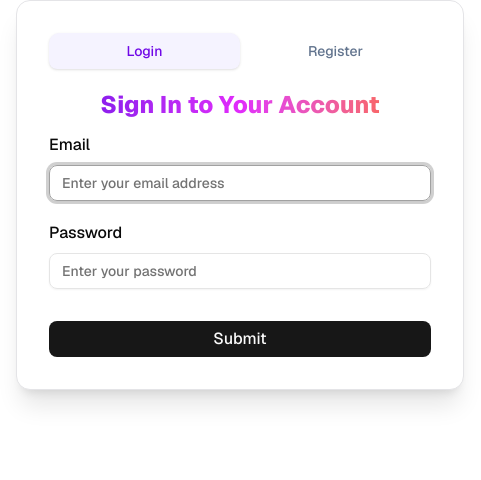
AuthForm › clears validation errors when user corrects input
# Trigger validation error by entering invalid email and submitting
Type "invalid" into the field labelled "Email" at coordinates (240, 183), box [49,165,431,201]
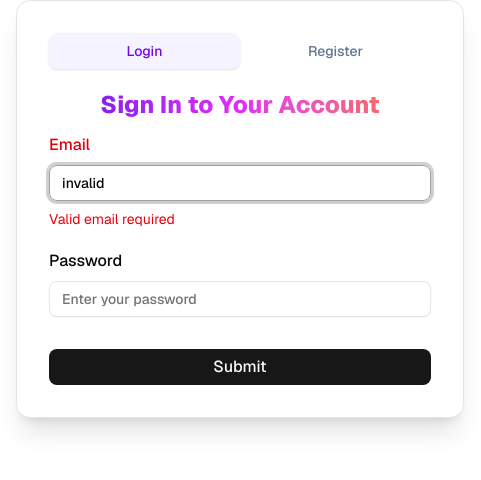
Type "1234" into the password field labelled "Password" at coordinates (240, 299), box [49,281,431,317]
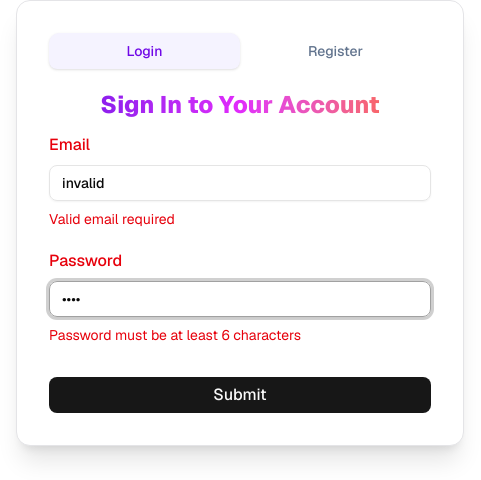
Click the button "Login" at coordinates (144, 51), box [49,33,240,69]
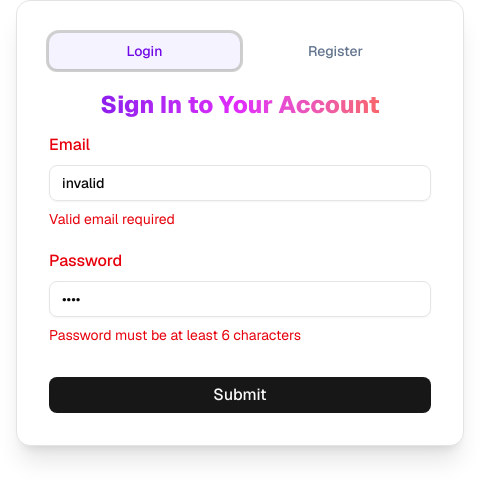
Check: the text "Valid email required" is shown, box [49,210,175,228]
Check: the text "Password must be at least 6 characters" is shown, box [49,326,301,344]
# Fix the input by clearing and entering valid email
Replace the text in the field labelled "Email" with "valid@example.com" at coordinates (240, 183), box [49,165,431,201]
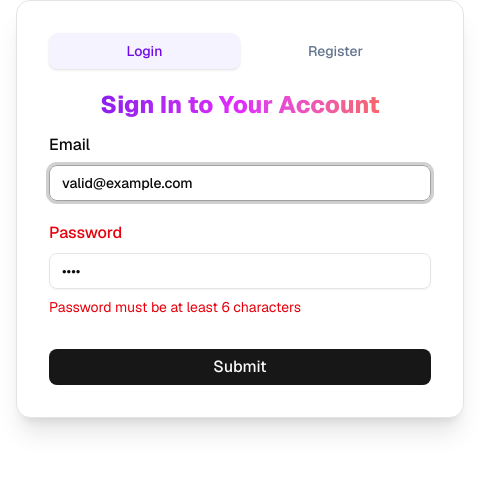
Type "1234567" into the password field labelled "Password" at coordinates (240, 271), box [49,253,431,289]
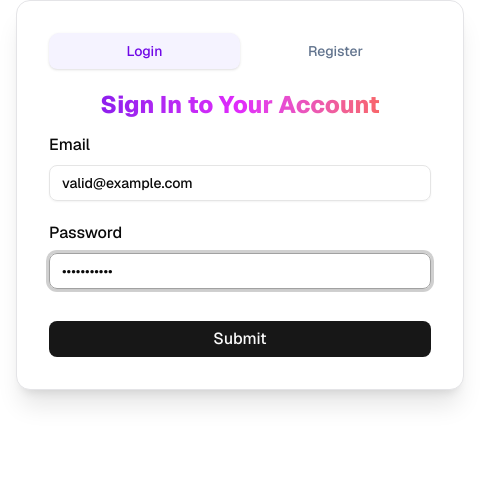
Check: the text "Valid email required" is not shown
Check: the text "Password must be at least 6 characters" is gone
